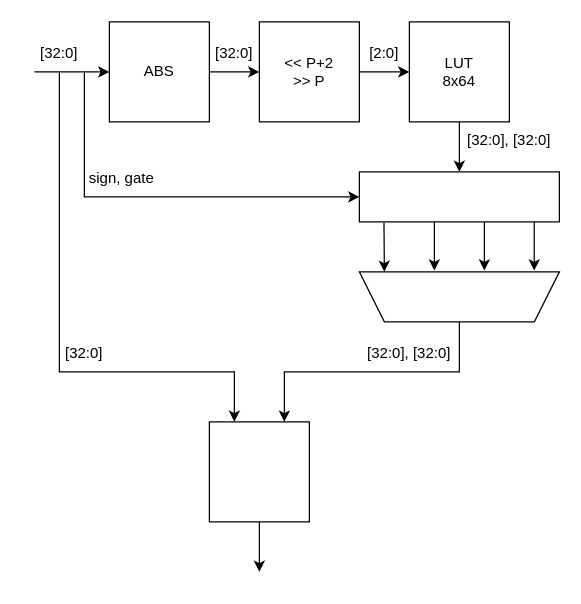
This 581x604 diagram has some shape labels left out. The shapes that lost their labels are listed below. From the top down, each one's box as (x1, y1, x2, y2) in pixels, then its label:
(358, 171, 559, 222): Coefficient converter
(208, 421, 309, 522): MAC y = mx + q
